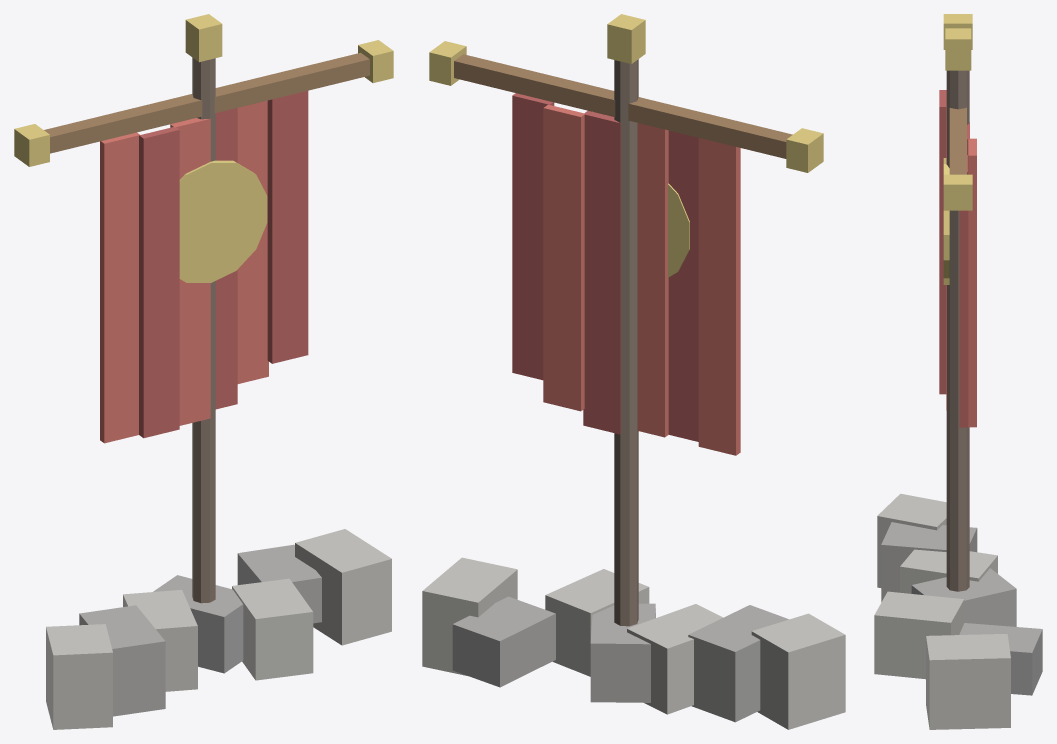
File: ws_city_banner.glb
The picture shows the model from 3 angles, left to right: view 1: azimuth 30°, elevation 25°; view 2: azimuth 150°, elevation 25°; view 3: azimuth 270°, elevation 25°; orthographic projection. The views are drawn at different scales.
Parts seen in each view (by area): view 1: ws_city_banner; view 2: ws_city_banner; view 3: ws_city_banner.
Part boxes in pixels (box(x1,y1,x2,y2)): ws_city_banner: box(14, 14, 393, 729); ws_city_banner: box(422, 14, 845, 729); ws_city_banner: box(874, 14, 1042, 729).
Bounding box in the file's own units: 1.4 × 2.36 × 0.5837.
